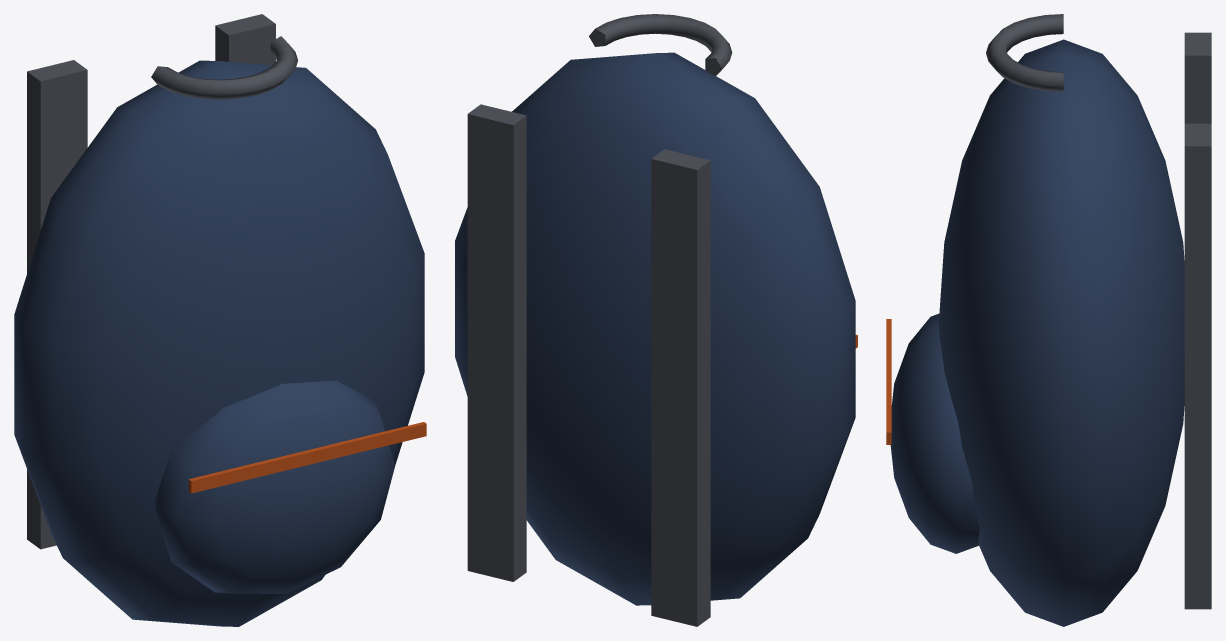
File: Deco_Backpack.gltf
The picture shows the model from 3 angles, left to right: view 1: azimuth 30°, elevation 25°; view 2: azimuth 150°, elevation 25°; view 3: azimuth 270°, elevation 25°; orthographic projection. The views are drawn at different scales.
Parts seen in each view (by area): view 1: Deco_Backpack; view 2: Deco_Backpack; view 3: Deco_Backpack.
Boxes of the visible parts, x1,y1,x2,y2 form: Deco_Backpack: [14, 14, 426, 626]; Deco_Backpack: [455, 14, 857, 626]; Deco_Backpack: [886, 14, 1211, 626].
Size of the model in its own units: 0.3315 by 0.4671 by 0.242.
